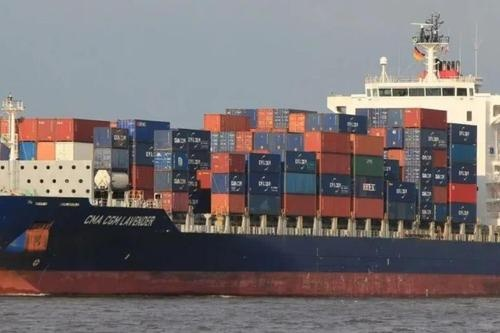Cargoship: (2, 11, 500, 296)
